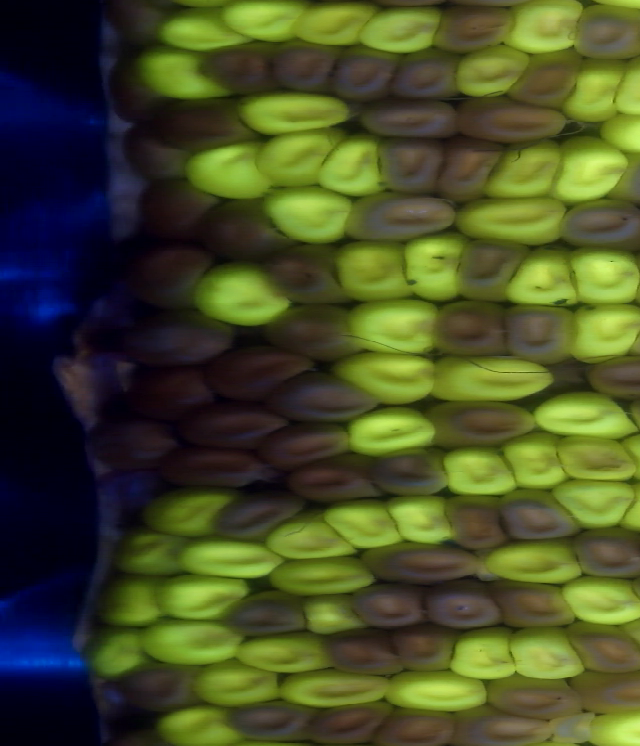fluorescent: (425, 349, 557, 409), (447, 189, 576, 249), (188, 257, 295, 328), (338, 294, 452, 358), (127, 39, 235, 106), (251, 121, 351, 193), (325, 349, 442, 410), (177, 133, 277, 203), (135, 482, 249, 543), (260, 178, 356, 249), (228, 84, 355, 136), (547, 132, 636, 205), (168, 531, 290, 584), (139, 611, 255, 666), (481, 133, 566, 207), (330, 237, 418, 307), (398, 223, 472, 305), (500, 241, 585, 312), (480, 533, 586, 589), (379, 665, 495, 716), (263, 549, 381, 599), (310, 130, 394, 200), (342, 401, 440, 461), (275, 663, 401, 709), (528, 388, 640, 439), (561, 298, 640, 370), (259, 506, 364, 560), (447, 39, 535, 103), (348, 1, 449, 56), (151, 570, 255, 623), (232, 627, 339, 678), (82, 619, 162, 686), (318, 494, 407, 554), (548, 474, 640, 532), (150, 4, 254, 55), (495, 1, 586, 59), (507, 619, 589, 683), (94, 566, 170, 634), (439, 441, 525, 499), (550, 429, 640, 484), (190, 652, 287, 703), (567, 243, 640, 309), (563, 52, 627, 127), (446, 620, 522, 683), (284, 1, 384, 48), (559, 571, 640, 629), (217, 1, 313, 48), (110, 526, 195, 579), (497, 428, 570, 489), (382, 489, 457, 548), (152, 699, 246, 746), (296, 589, 370, 639), (581, 695, 640, 746), (606, 51, 640, 120), (596, 107, 640, 159)
nonfluorescent: (111, 307, 235, 369), (199, 341, 322, 402), (455, 90, 576, 152), (264, 367, 387, 427), (339, 187, 458, 248), (125, 242, 220, 314), (265, 299, 365, 365), (422, 396, 542, 451), (353, 538, 487, 587), (103, 656, 207, 719), (174, 394, 295, 448), (150, 442, 275, 493), (264, 238, 353, 309), (160, 93, 264, 152), (479, 574, 584, 632), (208, 482, 302, 546), (255, 416, 351, 478), (203, 196, 288, 266), (83, 413, 183, 472), (135, 176, 220, 244), (507, 45, 586, 117), (500, 298, 581, 368), (429, 295, 516, 360), (419, 573, 510, 635), (285, 449, 382, 507), (449, 235, 526, 308), (492, 483, 582, 544), (368, 130, 447, 199), (483, 670, 590, 720), (196, 39, 285, 99), (355, 94, 463, 143), (218, 586, 312, 642), (428, 1, 518, 59), (321, 621, 405, 682), (386, 45, 468, 107), (362, 444, 456, 498), (327, 42, 405, 107), (124, 364, 216, 419), (299, 696, 400, 746), (557, 194, 640, 254), (221, 697, 324, 745), (435, 490, 513, 553), (434, 134, 501, 207), (102, 51, 165, 127), (268, 35, 344, 97), (116, 120, 193, 181), (563, 617, 640, 678), (447, 703, 553, 746), (569, 1, 640, 64), (386, 618, 461, 675), (348, 579, 427, 630), (367, 704, 462, 746), (571, 525, 640, 582), (100, 1, 175, 53), (567, 667, 640, 716), (583, 350, 640, 401)
